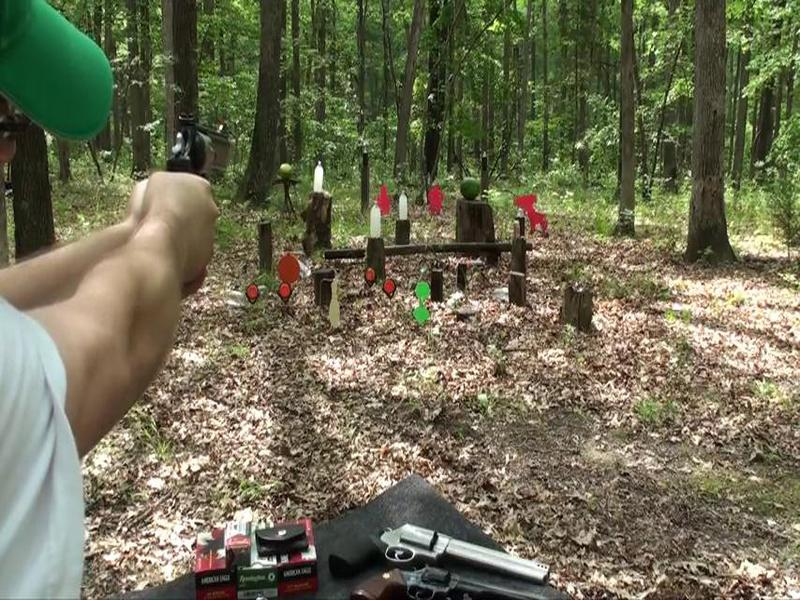Revolver: (153, 94, 251, 202)
